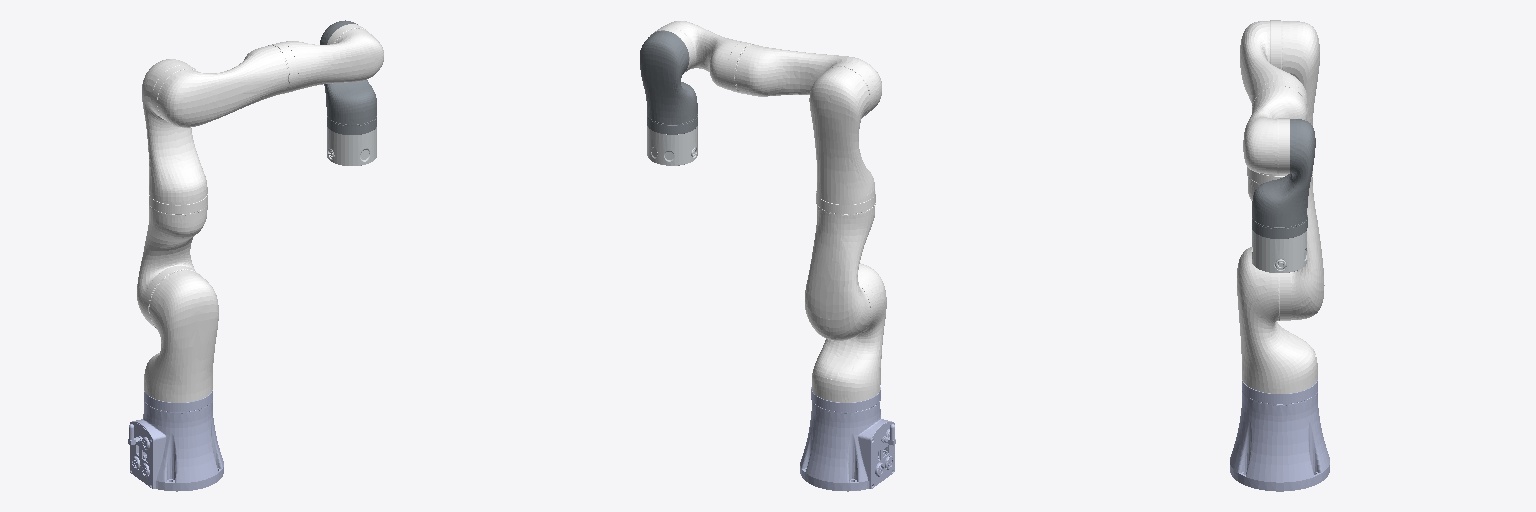
The robot description file, URDF, robot "TCB610_06N_urdf":
<?xml version="1.0" encoding="utf-8"?>
<!-- This URDF was automatically created by SolidWorks to URDF Exporter! Originally created by Stephen Brawner (brawner@gmail.com) 
     Commit Version: 1.6.0-1-g15f4949  Build Version: 1.6.7594.29634
     For more information, please see http://wiki.ros.org/sw_urdf_exporter -->
<robot name="TCB610_06N_urdf">
    <mujoco>
        <!-- * 这是 MuJoCo 官方支持的特性：在 URDF 文件里嵌入 MuJoCo 专属配置，<mujoco> 不是标准 ROS URDF 的核心标签，而是给 MuJoCo 的 URDF 导入器提供额外配置 -->
        <!-- 标准 URDF 解析器可能会忽略它，MuJoCo 导入器则可能读取它 -->
        <!-- ! <mujoco> 块里只能写编译器相关的设置，主要是 <compiler> -->

        <!-- discardvisual: 表示 MuJoCo 导入 URDF 时，不丢弃 <visual> 中的外观几何体，可选有 [false, true], “false” for MJCF, “true” for URDF -->
        <compiler meshdir="../meshes/" discardvisual="false"/>
    </mujoco>

    <!-- NOTE 机械臂最底部的基础连杆，可以理解为机械臂底座 -->
    <link name="tl_robot_link0">
        <!-- inertial：质量、重心和转动惯量 -->
        <inertial>
            <!-- origin：表示 link0 的惯性坐标系，也就是重心坐标系，相对于 link0 自身坐标系的位置和姿态 -->
            <origin xyz="0.000197158335101408 -5.65942773516878E-05 0.0376676214851066" rpy="0 0 0" />
            <!-- 定义 link0 的质量 -->
            <mass value="0.749899458922545" />
            <!-- 定义 link0 相对于重心的转动惯量矩阵 -->
            <!-- ! 仅在 RViz 中显示模型时，惯性参数通常不起作用 -->
            <inertia ixx="0.00156235136176764" ixy="-6.48262732748015E-08" ixz="4.21713907756751E-05" iyy="0.00143055291291807" iyz="-1.4740224733695E-07" izz="0.00181952433904877" />
        </inertial>

        <!-- visual：决定在 RViz、Gazebo 或其他可视化软件里，这个连杆看起来是什么形状和颜色 -->
        <visual>
            <!-- origin：表示视觉网格的坐标系，相对于 link0 自身坐标系的位置和姿态，这里即与 link0 坐标系完全重合 -->
            <origin xyz="0 0 0" rpy="0 0 0" />
            <!-- geometry：定义视觉几何形状 -->
            <geometry>
                <!-- 表示视觉模型使用一个 STL 网格文件 -->
                <!-- ps package://TCB610_06N_urdf/meshes/tl_robot_link0.STL 含义：ROS 查找名为 TCB610_06N_urdf 的功能包，然后进入该包中的 meshes 目录，再加载 tl_robot_link0.STL 文件 -->
                <!-- <mesh filename="package://TCB610_06N_urdf/meshes/tl_robot_link0.STL" /> -->
                <mesh filename="../meshes/tl_robot_link0.STL" />
            </geometry>
            <!-- material：定义视觉材质，name="" 表示材质没有设置有效名称，这种写法可以正常指定局部颜色，但不方便让其他连杆重复引用同一个材质，更规范的写法是自定义例如 name = "base_color" -->
            <material name="">
                <color rgba="0.792156862745098 0.819607843137255 0.933333333333333 1" />
            </material>
        </visual>

        <!-- collision：碰撞检测使用什么形状 -->
        <collision>
            <!-- origin：碰撞模型的坐标系与 link0 自身坐标系重合 -->
            <origin xyz="0 0 0" rpy="0 0 0" />
            <!-- geometry：定义碰撞几何体 -->
            <geometry>
                <!-- 碰撞检测也使用 tl_robot_link0.STL，这意味着视觉模型和碰撞模型使用同一个高精度网格 -->
                <!-- ps 优点是形状准确，缺点是碰撞检测速度可能较慢，仿真计算量较大等等 -->
                <!-- ! 工业项目一般会另外制作简化碰撞模型，如 tl_robot_link0_collision.STL，或者使用多个 box、cylinder、sphere 近似表示 -->
                <!-- <mesh filename="package://TCB610_06N_urdf/meshes/tl_robot_link0.STL" /> -->
                <mesh filename="../meshes/tl_robot_link0.STL" />
            </geometry>
        </collision>
    </link>

    <!-- NOTE 连杆 1 -->
    <link name="tl_robot_link1">
        <inertial>
            <origin xyz="-3.22169620622034E-06 -0.0151242570890185 0.0705019653501001" rpy="0 0 0" />
            <mass value="0.518481282081828" />
            <inertia ixx="0.00167110041898517" ixy="1.56212363051667E-07" ixz="-1.54670410912784E-07" iyy="0.00175701064773447" iyz="0.000263613286475281" izz="0.00078448162552415" />
        </inertial>
        <visual>
            <origin xyz="0 0 0" rpy="0 0 0" />
            <geometry>
                <mesh filename="../meshes/tl_robot_link1.STL" />
            </geometry>
            <material name="">
                <!-- 完全不透明的白色 -->
                <color rgba="1 1 1 1" />
            </material>
        </visual>
        <collision>
            <origin xyz="0 0 0" rpy="0 0 0" />
            <geometry>
                <mesh filename="../meshes/tl_robot_link1.STL" />
            </geometry>
        </collision>
    </link>
    <!-- NOTE 关节 1 -->
    <!-- "revolute" 表示这是一个有角度限制的旋转关节，除此之外，还有： -->
    <!-- continuous：描述旋转运动，可以围绕某一个轴无限旋转，比如小车的轮子 -->
    <!-- prismatic：滑动关节，可以沿某一个轴平移，也带有位置的极限，一般直线电机就是这种运动方式 -->
    <!-- fixed：固定关节，是唯一一种不允许运动的关节，不过使用还是比较频繁的，比如相机这个连杆，安装在机器人上，相对位置是不会变化的，此时使用的连接方式就是 Fixed -->
    <!-- Floating：浮动关节，planar：平面关节，这两种使用相对较少 -->
    <joint name="tl_robot_joint1" type="revolute">
        <!-- 表示在关节角度为 0 时，joint1 坐标系相对于父连杆 link0 坐标系的位置和姿态 -->
        <origin xyz="0 0 0.1305" rpy="0 0 0" />
        <parent link="tl_robot_link0" />
        <child link="tl_robot_link1" />
        <!-- axis：表示绕 joint1 坐标系的 Z 轴旋转 -->
        <!-- ! axis 是在关节坐标系中表达的，不一定是在世界坐标系中表达 -->
        <axis xyz="0 0 1" />
        <!-- limit：关节角度、速度和力矩限制 -->
        <!-- effort="0"：对于旋转关节，effort 表示最大允许力矩，单位是 N·m，这里写 0 并不表示“没有限制”，而往往会被控制器或规划器理解为最大力矩为 0 N·m，这是潜在问题！！！ -->
        <!-- velocity="0"：对于旋转关节，表示最大角速度，单位是 rad/s，写 0 可能导致 MoveIt、控制器或仿真器认为该关节不能运动，因此实际使用时，应根据厂家参数填写真实值 -->
        <limit lower="-3.141592654" upper="3.141592654" effort="0" velocity="0" />
    </joint>


    <!-- NOTE 连杆 2 -->
    <link name="tl_robot_link2">
        <inertial>
            <origin xyz="-3.64948803709113E-06 -0.15878316508675 0.00258163777686799" rpy="0 0 0" />
            <mass value="0.922466553994291" />
            <inertia ixx="0.00326663921530272" ixy="-8.08050575635626E-09" ixz="-1.47598477607018E-07" iyy="0.00102266010722135" iyz="-4.44984199306338E-05" izz="0.00339452282892035" />
        </inertial>
        <visual>
            <origin xyz="0 0 0" rpy="0 0 0" />
            <geometry>
                <mesh filename="../meshes/tl_robot_link2.STL" />
            </geometry>
            <material name="">
                <color rgba="1 1 1 1" />
            </material>
        </visual>
        <collision>
            <origin xyz="0 0 0" rpy="0 0 0" />
            <geometry>
                <mesh filename="../meshes/tl_robot_link2.STL" />
            </geometry>
        </collision>
    </link>
    <!-- NOTE 关节 2 -->
    <joint name="tl_robot_joint2" type="revolute">
        <!-- 姿态上：关节 2 的坐标系相对于 link1 坐标系绕 X 轴旋转了约 -90° -->
        <origin xyz="0 0.016 0.1315" rpy="-1.5708 0 0" />
        <parent link="tl_robot_link1" />
        <child link="tl_robot_link2" />
        <!-- 表示第二关节绕关节坐标系的 -Z 轴旋转 -->
        <axis xyz="0 0 -1" />
        <limit lower="-2.35619449" upper="2.35619449" effort="0" velocity="0" />
    </joint>

    <!-- NOTE 连杆 3 -->
    <link name="tl_robot_link3">
        <inertial>
            <origin xyz="2.78354237109954E-06 0.0694960867121006 0.00637377402709792" rpy="0 0 0" />
            <mass value="0.396498595803028" />
            <inertia ixx="0.00137497380584233" ixy="7.68580314688229E-08" ixz="2.54610387073722E-08" iyy="0.000357925421554553" iyz="0.000211759769095163" izz="0.00141757729346042" />
        </inertial>
        <visual>
            <origin xyz="0 0 0" rpy="0 0 0" />
            <geometry>
                <mesh filename="../meshes/tl_robot_link3.STL" />
            </geometry>
            <material name="">
                <color rgba="1 1 1 1" />
            </material>
        </visual>
        <collision>
            <origin xyz="0 0 0" rpy="0 0 0" />
            <geometry>
                <mesh filename="../meshes/tl_robot_link3.STL" />
            </geometry>
        </collision>
    </link>
    <!-- NOTE 关节 3 -->
    <joint name="tl_robot_joint3" type="revolute">
        <origin xyz="0 -0.3205 -0.0295" rpy="-3.14 0 1.5708" />
        <parent link="tl_robot_link2" />
        <child link="tl_robot_link3" />
        <axis xyz="0 0 1" />
        <limit lower="-0.959931089" upper="4.101523742" effort="0" velocity="0" />
    </joint>

    <!-- ps 关节 4 及其连杆 -->
    <joint name="tl_robot_joint4" type="revolute">
        <origin xyz="0 0.1745 -0.0135" rpy="-1.5708 0 0" />
        <parent link="tl_robot_link3" />
        <child link="tl_robot_link4" />
        <axis xyz="0 0 1" />
        <limit lower="-3.141592654" upper="3.141592654" effort="0" velocity="0" />
    </joint>
    <link name="tl_robot_link4">
        <inertial>
            <origin xyz="-3.40933814129099E-06 -0.0133244789122422 0.0587132278152935" rpy="0 0 0" />
            <mass value="0.244288838248205" />
            <inertia ixx="0.000507361499420707" ixy="3.14094200860272E-08" ixz="-1.10052697249875E-07" iyy="0.000522024117409157" iyz="8.94126964826422E-05" izz="0.00020297105617683" />
        </inertial>
        <visual>
            <origin xyz="0 0 0" rpy="0 0 0" />
            <geometry>
                <mesh filename="../meshes/tl_robot_link4.STL" />
            </geometry>
            <material name="">
                <color rgba="1 1 1 1" />
            </material>
        </visual>
        <collision>
            <origin xyz="0 0 0" rpy="0 0 0" />
            <geometry>
                <mesh filename="../meshes/tl_robot_link4.STL" />
            </geometry>
        </collision>
    </link>

    <!-- ps 关节 5 及其连杆 -->
    <joint name="tl_robot_joint5" type="revolute">
        <origin xyz="0 0.0145 0.105" rpy="-1.5708 1.5708 0" />
        <parent link="tl_robot_link4" />
        <child link="tl_robot_link5" />
        <axis xyz="0 0 1" />
        <limit lower="-3.752457892" upper="0.610865238" effort="0" velocity="0" />
    </joint>
    <link name="tl_robot_link5">
        <inertial>
            <origin xyz="-1.40320481653003E-05 -0.0434236898124816 0.00052679877060258" rpy="0 0 0" />
            <mass value="0.248665741580514" />
            <inertia ixx="0.000435366365640956" ixy="1.02578029161429E-07" ixz="3.83958961826191E-08" iyy="0.000223309836077531" iyz="-9.15144352364642E-05" izz="0.000440491062715861" />
        </inertial>
        <visual>
            <origin xyz="0 0 0" rpy="0 0 0" />
            <geometry>
                <mesh filename="../meshes/tl_robot_link5.STL" />
            </geometry>
            <material name="">
                <color rgba="0.568627450980392 0.596078431372549 0.623529411764706 1" />
            </material>
        </visual>
        <collision>
            <origin xyz="0 0 0" rpy="0 0 0" />
            <geometry>
                <mesh filename="../meshes/tl_robot_link5.STL" />
            </geometry>
        </collision>
    </link>


    <!-- NOTE 连杆 6，通常是机械臂最后一级腕部或法兰连杆 -->
    <link name="tl_robot_link6">
        <inertial>
            <origin xyz="8.18734378994135E-06 9.1246482065654E-05 0.0267686825888341" rpy="0 0 0" />
            <mass value="0.222487041141641" />
            <inertia ixx="0.000135311205902358" ixy="-5.82503171377999E-08" ixz="-1.88841459723531E-09" iyy="0.000134459672909182" iyz="-1.23915005752652E-08" izz="0.000181050255328463" />
        </inertial>
        <visual>
            <origin xyz="0 0 0" rpy="0 0 0" />
            <geometry>
                <mesh filename="../meshes/tl_robot_link6.STL" />
            </geometry>
            <material name="">
                <!-- 颜色为很浅的灰白色 -->
                <color rgba="0.898039215686275 0.917647058823529 0.929411764705882 1" />
            </material>
        </visual>
        <collision>
            <origin xyz="0 0 0" rpy="0 0 0" />
            <geometry>
                <mesh filename="../meshes/tl_robot_link6.STL" />
            </geometry>
        </collision>
    </link>
    <!-- NOTE 关节 6 -->
    <!-- 通常是最末端的腕部旋转关节 -->
    <joint name="tl_robot_joint6" type="revolute">
        <!-- 关节 6 的坐标系绕 X 轴旋转了约 +90° -->
        <origin xyz="0 -0.1145 -0.0145" rpy="1.5708 0 0" />
        <parent link="tl_robot_link5" />
        <child link="tl_robot_link6" />
        <!-- 第六关节绕其关节坐标系正 Z 轴旋转 -->
        <axis xyz="0 0 1" />
        <limit lower="-3.141592654" upper="3.141592654" effort="0" velocity="0" />
    </joint>

    <!-- *************** 到这里，原始的六自由度机械臂运动链已经完整 *************** -->

    <!-- 修正末端 180 度 偏差的虚拟关节和连杆 -->
    <!-- * 目的是为了让 x 轴的正方向朝前方，y 轴朝向右方，z 轴朝下！！！ -->
    <joint name="tl_robot_joint_end" type="fixed">
        <!-- ps 真正让末端旋转 180° 的是下面这句！！！ -->
        <origin xyz="0 0 0" rpy="0 0 -3.141592654" />
        <!-- 绕 Z 轴旋转 180度 修正 -->
        <parent link="tl_robot_link6" />
        <child link="tl_robot_link_end" />
        <!-- 固定关节不发生运动，所以 axis 在这里没有意义，可以删除 -->
        <axis xyz="0 0 1" />
    </joint>

    <!-- 虚拟末端连杆 -->
    <link name="tl_robot_link_end">
        <inertial>
            <!-- 虚拟连杆的重心位于自身原点，重心坐标系方向与连杆坐标系相同 -->
            <origin xyz="0 0 0" rpy="0 0 0" />
            <!-- 虚拟连杆质量为 1g，这是一个人为设置的极小质量，不一定对应真实物体 -->
            <mass value="0.001" />
            <!-- 表示人为构造了一个各方向惯量相同、没有耦合的小物体 -->
            <inertia ixx="1e-6" ixy="0" ixz="0" iyy="1e-6" iyz="0" izz="1e-6" />
        </inertial>
        <visual>
            <!-- 可视化几何体放在 link_end 原点，并且不进行额外旋转 -->
            <origin xyz="0 0 0" rpy="0 0 0" />
            <geometry>
                <!-- 使用一个长方体作为显示形状，实际上是一个 10 mm × 10 mm × 10 mm 的小立方体，用于可视化 -->
                <box size=".01 .01 .01" />
            </geometry>
            <material name="eef_color">
                <!-- 显示为半透明红色小方块 -->
                <color rgba="1 0 0 0.5" />
            </material>
        </visual>
        <collision>
            <!-- 碰撞体位于 link_end 原点，并且没有额外旋转 -->
            <origin xyz="0 0 0" rpy="0 0 0" />
            <geometry>
                <!-- 碰撞体为一个小立方体，尺寸为 1 mm × 1 mm × 1 mm -->
                <box size="0.001 0.001 0.001" />
                <!-- 很小的碰撞体 -->
            </geometry>
        </collision>
    </link>
</robot>

--- Render facts (derived) ---
Views: 3 orthographic renders of the robot side by side, from view 1: azimuth 30°, elevation 25°; view 2: azimuth 150°, elevation 25°; view 3: azimuth 270°, elevation 25°.
Model TCB610_06N_urdf with 8 links and 7 joints (6 revolute, 1 fixed), rooted at tl_robot_link0, posed all joints at 0.
Visible links, largest first — view 1: tl_robot_link2, tl_robot_link1, tl_robot_link0, tl_robot_link3, tl_robot_link4, tl_robot_link5, tl_robot_link6; view 2: tl_robot_link2, tl_robot_link0, tl_robot_link1, tl_robot_link3, tl_robot_link5, tl_robot_link4, tl_robot_link6; view 3: tl_robot_link0, tl_robot_link1, tl_robot_link2, tl_robot_link5, tl_robot_link4, tl_robot_link3, tl_robot_link6.
Boxes of the visible links, <box> form: tl_robot_link2: <box>137,59,207,320</box>; tl_robot_link1: <box>143,266,218,402</box>; tl_robot_link0: <box>128,390,223,491</box>; tl_robot_link3: <box>157,42,298,127</box>; tl_robot_link4: <box>283,24,383,90</box>; tl_robot_link5: <box>320,20,376,134</box>; tl_robot_link6: <box>327,127,376,165</box>; tl_robot_link2: <box>805,62,875,340</box>; tl_robot_link0: <box>800,387,895,491</box>; tl_robot_link1: <box>812,263,886,402</box>; tl_robot_link3: <box>726,42,881,110</box>; tl_robot_link5: <box>640,31,697,134</box>; tl_robot_link4: <box>650,21,741,89</box>; tl_robot_link6: <box>647,126,697,165</box>; tl_robot_link0: <box>1230,380,1329,491</box>; tl_robot_link1: <box>1237,247,1317,393</box>; tl_robot_link2: <box>1247,20,1324,319</box>; tl_robot_link5: <box>1252,119,1315,238</box>; tl_robot_link4: <box>1243,86,1306,173</box>; tl_robot_link3: <box>1240,21,1307,113</box>; tl_robot_link6: <box>1252,230,1306,272</box>.
Size in the robot's own frame: 0.394 by 0.1276 by 0.6249 metres.
7 mesh visuals loaded from 7 distinct referenced files (7 binary STL).
